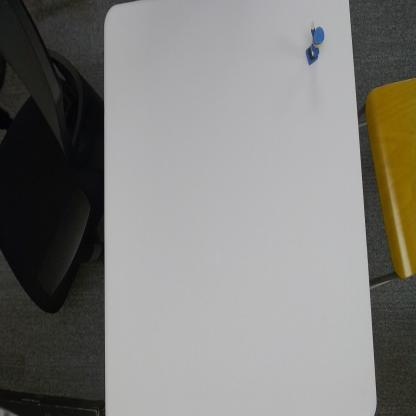Hand: (304, 14, 328, 70)
